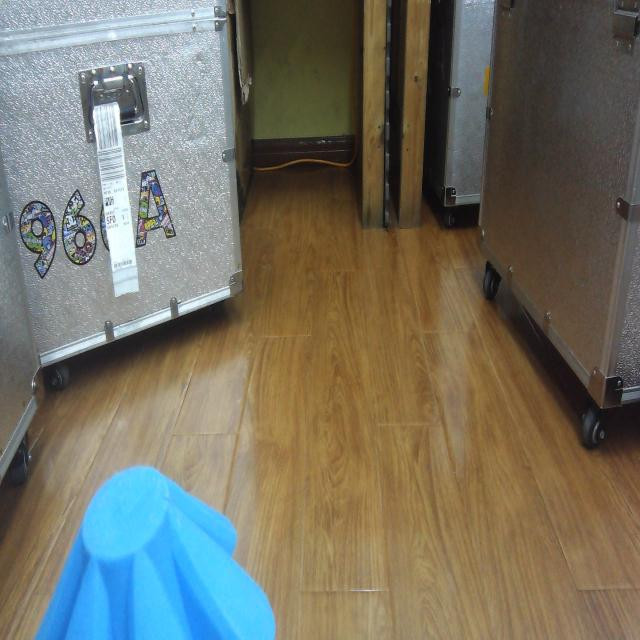zblue-Stake-Head: (35, 464, 276, 640)
